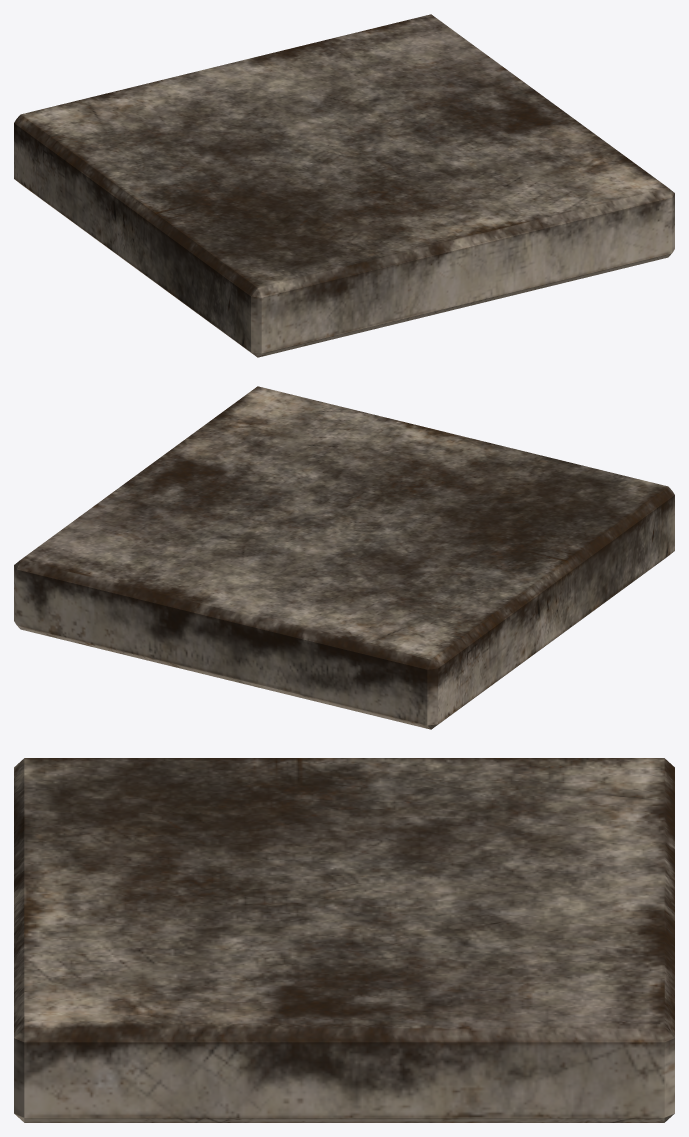
Rendered from ground-var1.fbx.
3 views of the same model, one above another, from view 1: azimuth 30°, elevation 25°; view 2: azimuth 150°, elevation 25°; view 3: azimuth 270°, elevation 25° (orthographic). The views are drawn at different scales.
Parts seen in each view (by area): view 1: GON_3Denviornment:pCube3; view 2: GON_3Denviornment:pCube3; view 3: GON_3Denviornment:pCube3.
Boxes of the visible parts, x1,y1,x2,y2 form: GON_3Denviornment:pCube3: (14, 14, 674, 357); GON_3Denviornment:pCube3: (14, 386, 674, 729); GON_3Denviornment:pCube3: (14, 758, 674, 1122).
Bounding box in the file's own units: 6.36 × 1 × 6.36.
Materials: 1 (1 with a texture image).
